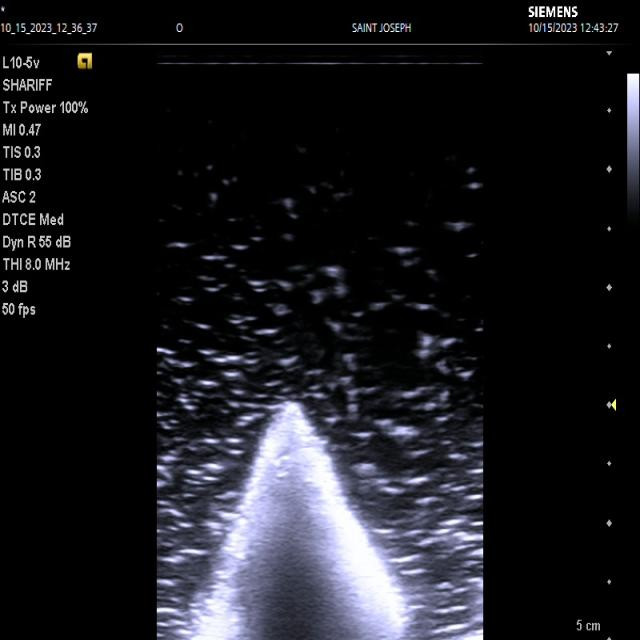tissue: (195, 403, 407, 640)
